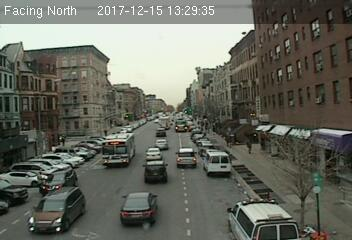bus: (100, 133, 136, 167)
car: (26, 187, 87, 234), (119, 193, 160, 224), (40, 169, 77, 193), (142, 161, 168, 181), (175, 148, 197, 168), (145, 147, 161, 160), (155, 139, 168, 150)
police: (224, 197, 303, 240)
truck: (203, 150, 232, 175)
